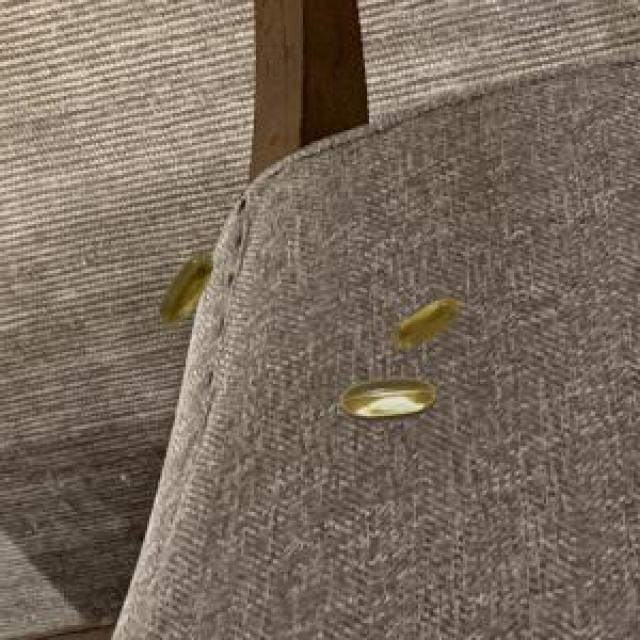Fish_Oil: (332, 367, 446, 438), (152, 242, 225, 336), (390, 284, 468, 356)
